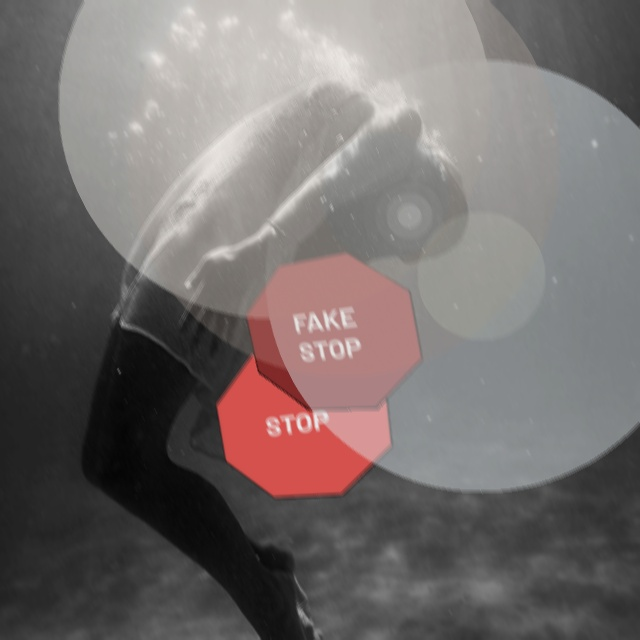FAKE_STOP: (245, 251, 423, 410)
STOP: (215, 337, 393, 498)
